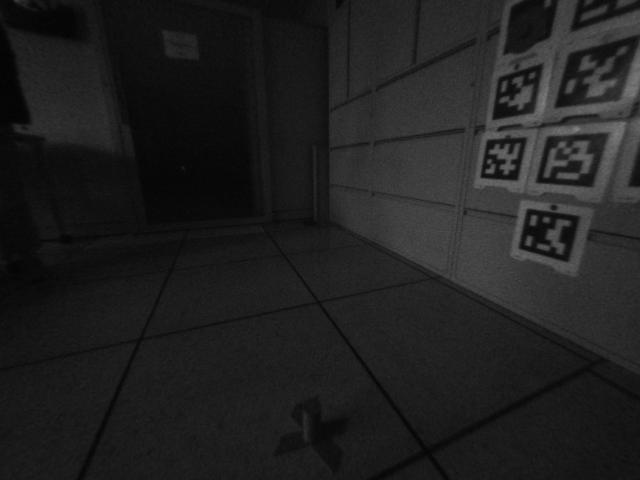x: (279, 392, 346, 470)
